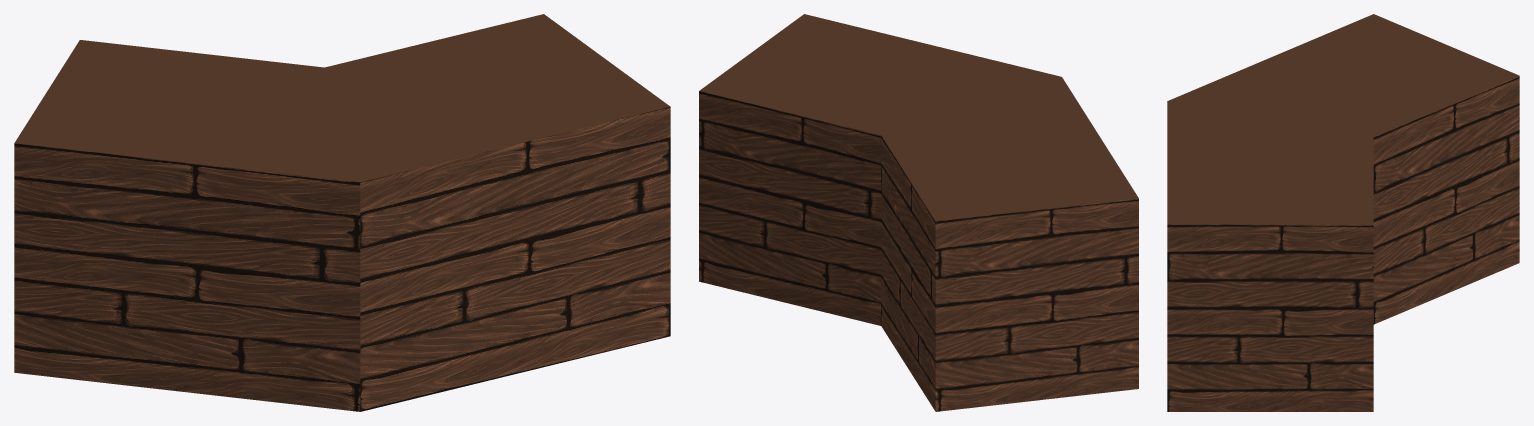
File: Muro_angolo_45_gradi.fbx
The picture shows the model from 3 angles, left to right: view 1: azimuth 30°, elevation 25°; view 2: azimuth 150°, elevation 25°; view 3: azimuth 270°, elevation 25°; orthographic projection. The views are drawn at different scales.
Visible parts, largest first — view 1: Muro_angolo_45_gradi; view 2: Muro_angolo_45_gradi; view 3: Muro_angolo_45_gradi.
Part boxes in pixels (x1,y1,x2,y2): Muro_angolo_45_gradi: (14,14,670,411); Muro_angolo_45_gradi: (699,14,1138,411); Muro_angolo_45_gradi: (1167,14,1519,411).
Bounding box in the file's own units: 483 × 200 × 341.
2 materials, 2 textured.
